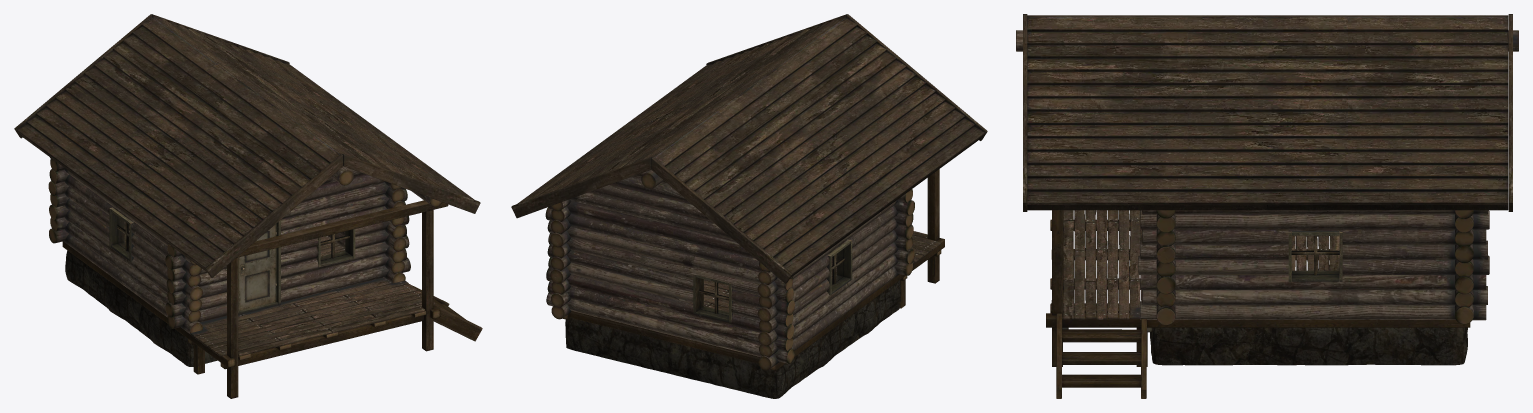
3 views of the same model, side by side, from view 1: azimuth 30°, elevation 25°; view 2: azimuth 150°, elevation 25°; view 3: azimuth 270°, elevation 25° (orthographic). The views are drawn at different scales.
Visible parts, largest first — view 1: Cabin_5, Cabin_Door_3; view 2: Cabin_5; view 3: Cabin_5.
Part boxes in pixels (bbox=[...]): Cabin_5: bbox=[14, 14, 482, 398]; Cabin_Door_3: bbox=[239, 224, 276, 310]; Cabin_5: bbox=[511, 14, 987, 398]; Cabin_5: bbox=[1016, 14, 1518, 398].
Size of the model in its own units: 7.7 by 5.89 by 9.1.
Materials: 8 (7 with a texture image).
